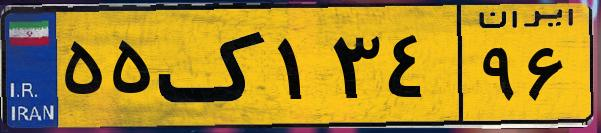1: (270, 28, 330, 110)
3: (330, 28, 385, 110)
4: (385, 28, 445, 110)
5: (57, 26, 110, 100), (110, 28, 158, 98)
6: (525, 38, 570, 115)
9: (475, 38, 525, 113)
ک: (158, 12, 270, 120)
